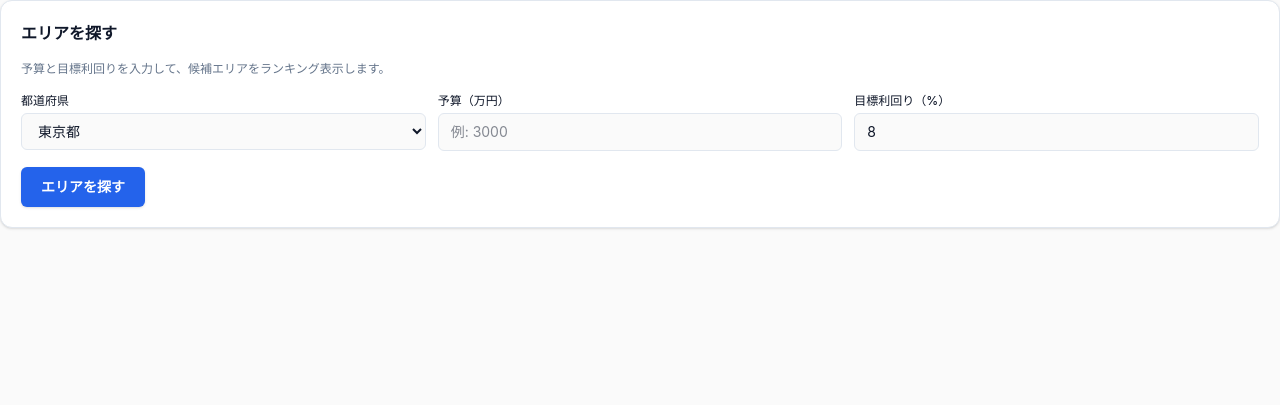
Scenario: AreaDiscovery › 検索結果が返るとテーブルが表示される
Click the button "エリアを探す".
click(83, 187)  # box [21,167,145,207]
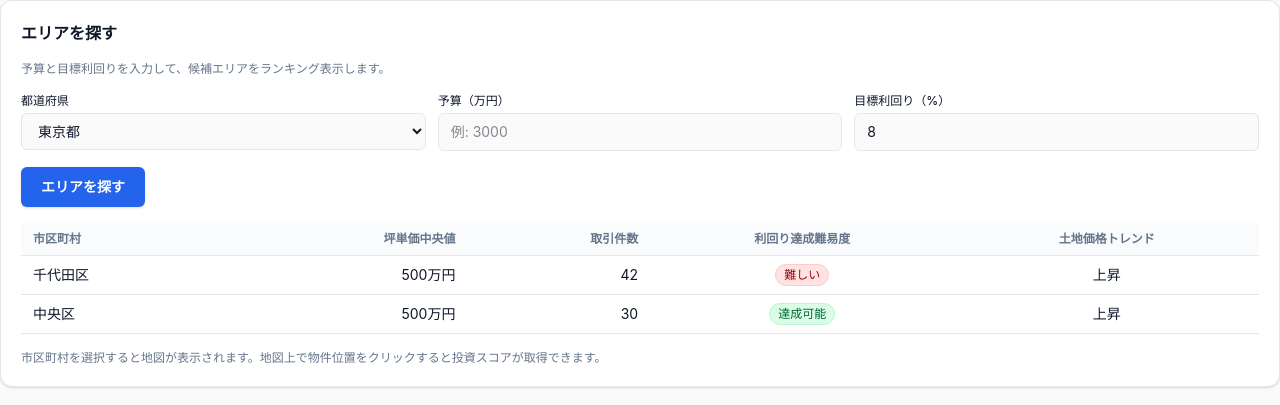
Result: the text "千代田区" is shown at [21,256,224,294]
Result: the text "中央区" is shown at [21,294,224,334]
Result: the text "42" is shown at [468,256,650,294]
